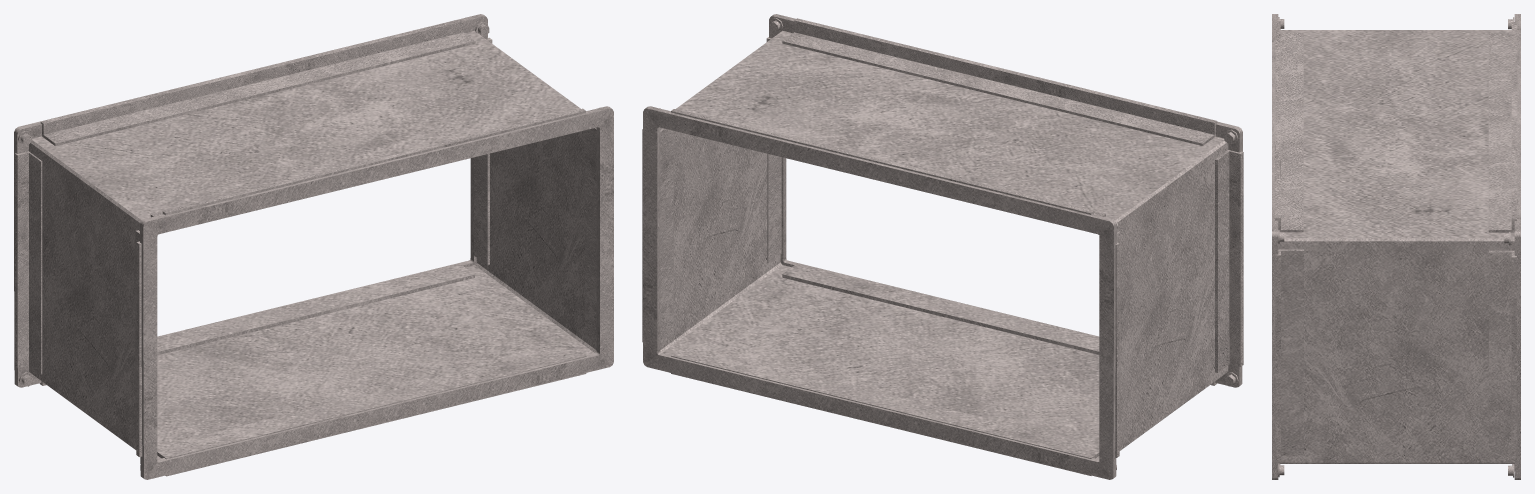
Rendered from SM_Square_Ducting_01l.glb.
3 views of the same model, side by side, from view 1: azimuth 30°, elevation 25°; view 2: azimuth 150°, elevation 25°; view 3: azimuth 270°, elevation 25° (orthographic). The views are drawn at different scales.
Visible parts, largest first — view 1: SM_Square_Ducting_01l; view 2: SM_Square_Ducting_01l; view 3: SM_Square_Ducting_01l.
Boxes of the visible parts, bbox=[...] form: SM_Square_Ducting_01l: bbox=[14, 14, 613, 479]; SM_Square_Ducting_01l: bbox=[642, 14, 1243, 479]; SM_Square_Ducting_01l: bbox=[1272, 14, 1520, 479].
Bounding box in the file's own units: 1.06 × 0.5617 × 0.5.
Materials: 1 (1 with a texture image).
